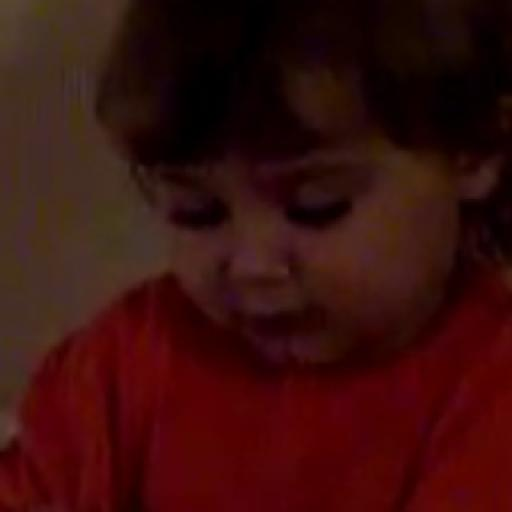Autism: (93, 10, 494, 450)
